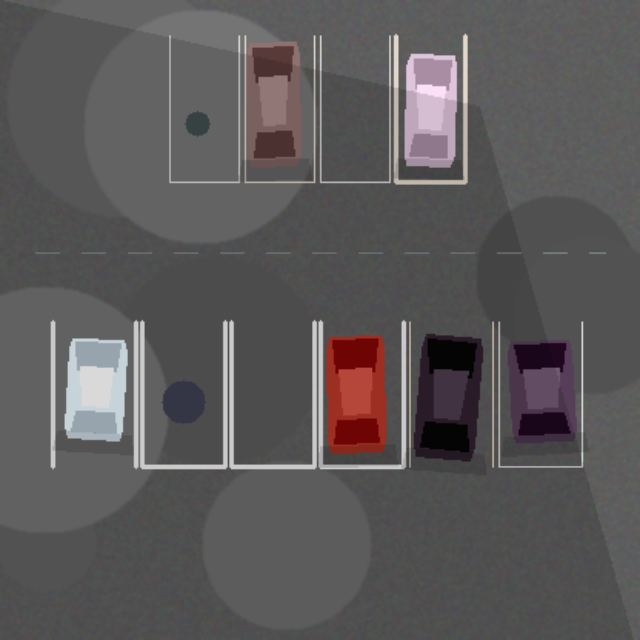space-empty: (142, 322, 225, 466), (231, 322, 314, 466), (169, 35, 238, 182), (320, 35, 389, 182)
space-occupied: (498, 322, 582, 466), (52, 322, 135, 466), (320, 322, 403, 466), (409, 322, 492, 466), (395, 35, 465, 182), (245, 35, 314, 182)
